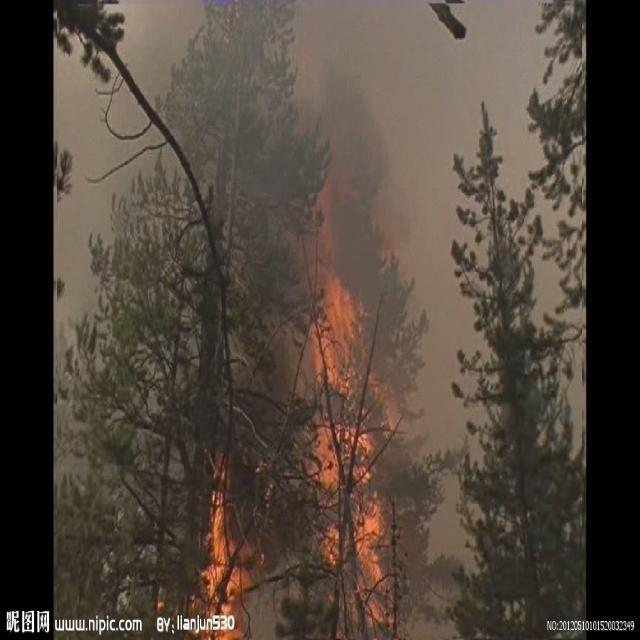Fire: (307, 268, 397, 626), (187, 448, 260, 640)
Smoke: (54, 1, 585, 640)
